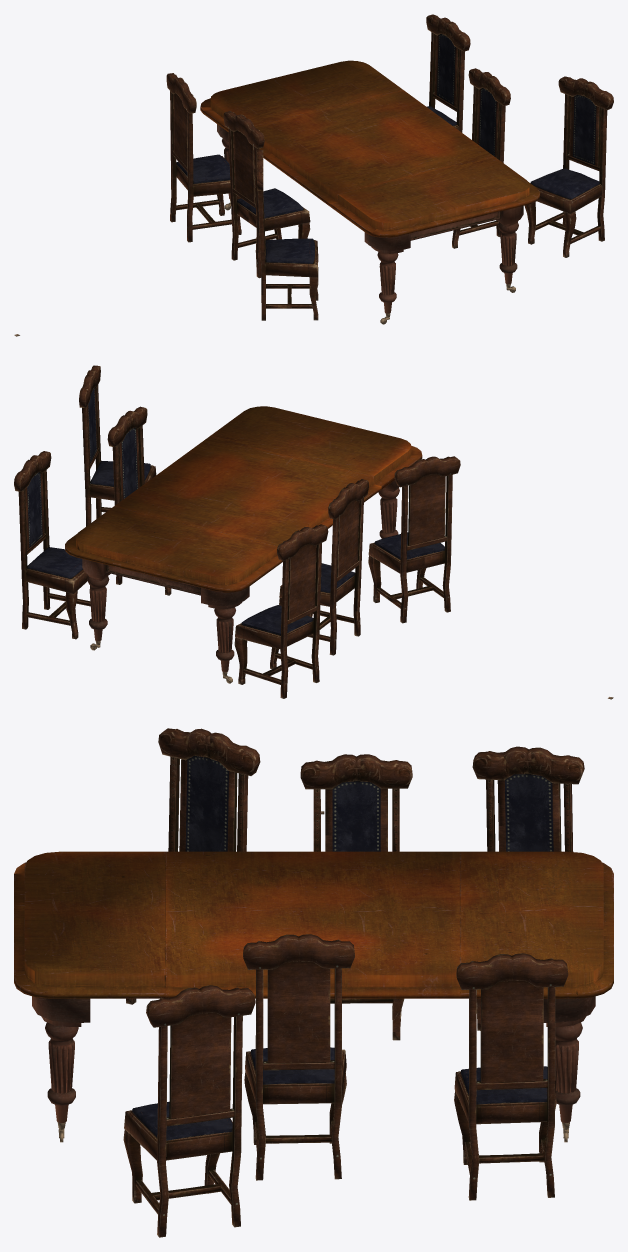
3 views of the same model, one above another, from view 1: azimuth 30°, elevation 25°; view 2: azimuth 150°, elevation 25°; view 3: azimuth 270°, elevation 25° (orthographic). The views are drawn at different scales.
Parts seen in each view (by area): view 1: Material-material.154, Material-material.156, Material-material.161, Material-material.201, Material-material.102, Material-material.044, Material-material.073, Material-material.320, Material-material.169, Material-material.170, Material-material.106, Material-material.088 (+12 smaller); view 2: Material-material.154, Material-material.201, Material-material.161, Material-material.156, Material-material.351, Material-material.001, Material-material.320, Material-material.171, Material-material.073, Material-material.044, Material-material.030, Material-material.048 (+11 smaller); view 3: Material-material.154, Material-material.156, Material-material.161, Material-material.201, Material-material.072, Material-material.043, Material-material.101, Material-material.410, Material-material.155, Material-material.133, Material-material.322, Material-material.165 (+37 smaller).
Part boxes in pixels (x1,y1,x2,y2): Material-material.154: [254, 90, 493, 194]; Material-material.156: [338, 156, 529, 222]; Material-material.161: [210, 60, 402, 125]; Material-material.201: [166, 73, 241, 242]; Material-material.102: [569, 94, 601, 166]; Material-material.044: [434, 34, 458, 107]; Material-material.073: [476, 88, 499, 158]; Material-material.320: [233, 130, 254, 203]; Material-material.169: [384, 188, 529, 230]; Material-material.170: [380, 195, 539, 237]; Material-material.106: [534, 169, 595, 194]; Material-material.088: [536, 184, 601, 213]; Material-material.154: [114, 436, 373, 546]; Material-material.201: [234, 524, 328, 698]; Material-material.161: [75, 506, 277, 576]; Material-material.156: [210, 406, 411, 476]; Material-material.351: [409, 474, 445, 545]; Material-material.001: [76, 445, 421, 587]; Material-material.320: [338, 500, 359, 576]; Material-material.171: [65, 547, 233, 592]; Material-material.073: [119, 427, 140, 500]; Material-material.044: [24, 472, 44, 549]; Material-material.030: [26, 569, 88, 593]; Material-material.048: [31, 548, 82, 573]; Material-material.154: [165, 851, 460, 974]; Material-material.156: [24, 851, 165, 974]; Material-material.161: [460, 851, 603, 974]; Material-material.201: [472, 746, 584, 1030]; Material-material.072: [267, 961, 330, 1063]; Material-material.043: [481, 980, 543, 1083]; Material-material.101: [170, 1012, 231, 1119]; Material-material.410: [180, 755, 237, 851]; Material-material.155: [165, 975, 460, 987]; Material-material.133: [179, 805, 234, 851]; Material-material.322: [325, 781, 370, 835]; Material-material.165: [165, 987, 460, 998].
Bounding box in the file's own units: 8.68 × 2.32 × 5.1.
2 materials, 2 textured.
